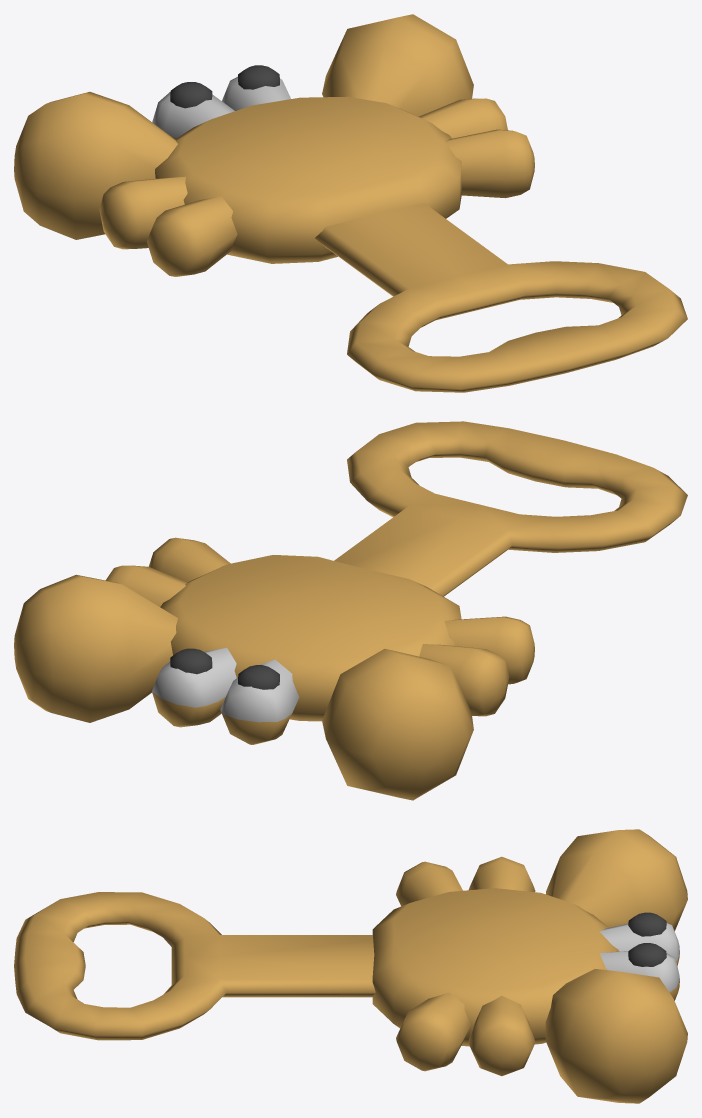
File: FrogToy_01.fbx
The picture shows the model from 3 angles, top to bottom: view 1: azimuth 30°, elevation 25°; view 2: azimuth 150°, elevation 25°; view 3: azimuth 270°, elevation 25°; orthographic projection. The views are drawn at different scales.
Parts seen in each view (by area): view 1: FrogToy_01; view 2: FrogToy_01; view 3: FrogToy_01.
Boxes of the visible parts, bbox=[...] form: FrogToy_01: bbox=[14, 14, 687, 392]; FrogToy_01: bbox=[14, 421, 687, 800]; FrogToy_01: bbox=[14, 829, 687, 1103].
Bounding box in the file's own units: 0.1683 × 0.0517 × 0.2402.
